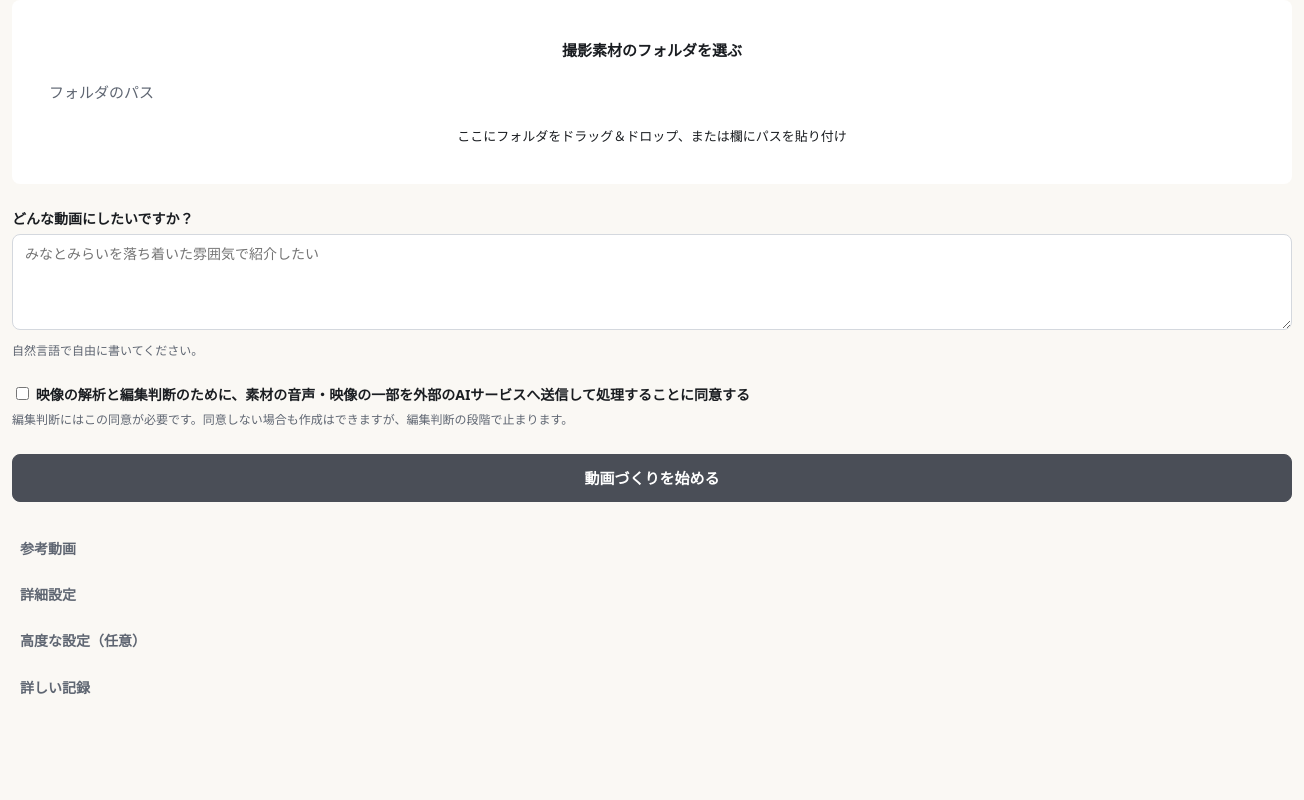
Test: IntakeForm（Createボタン活性ロジック） › API失敗時は構造化エラーを表示して遷移しない
In the field labelled "撮影素材のフォルダを選ぶ": [652, 92] box [36,70,1268,114], type "/tmp/missing"
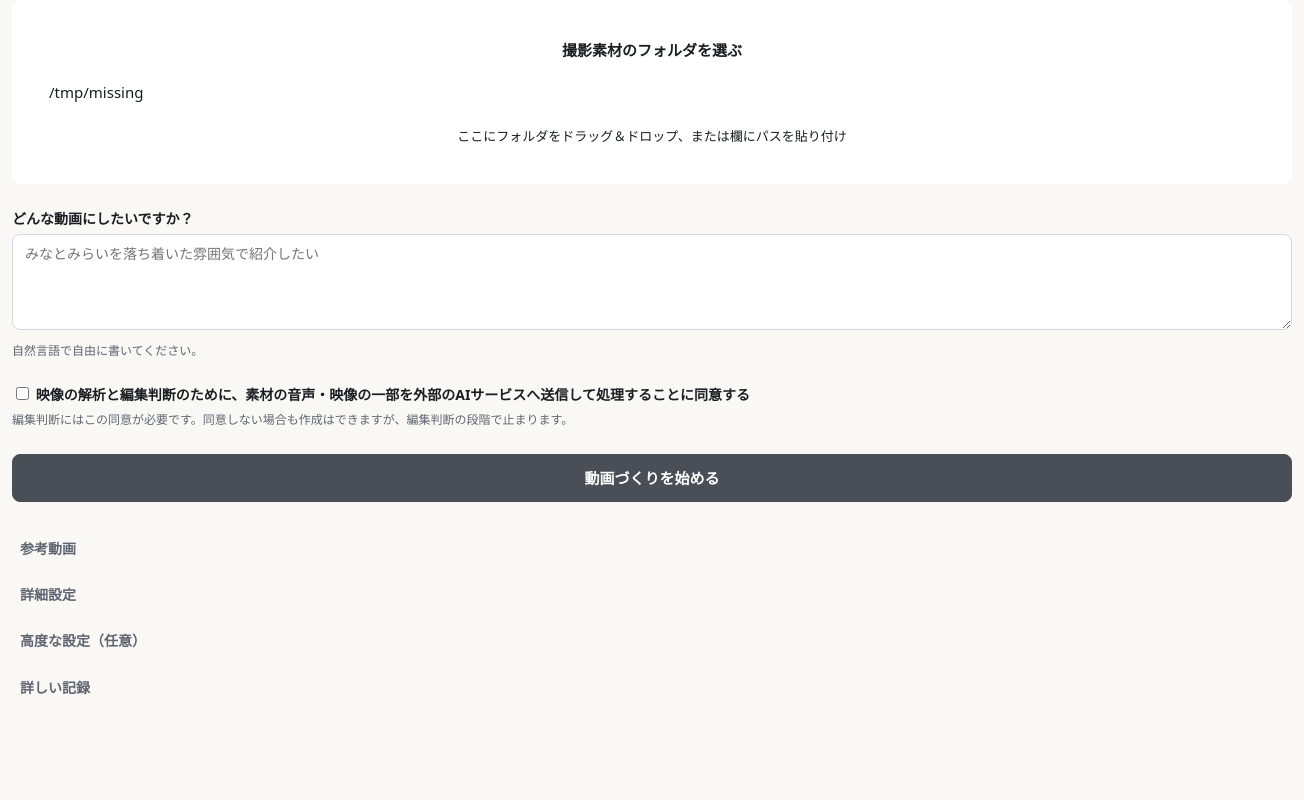
In the text box labelled "どんな動画にしたいですか？": [652, 282] box [12,234,1292,330], type "テストbrief"
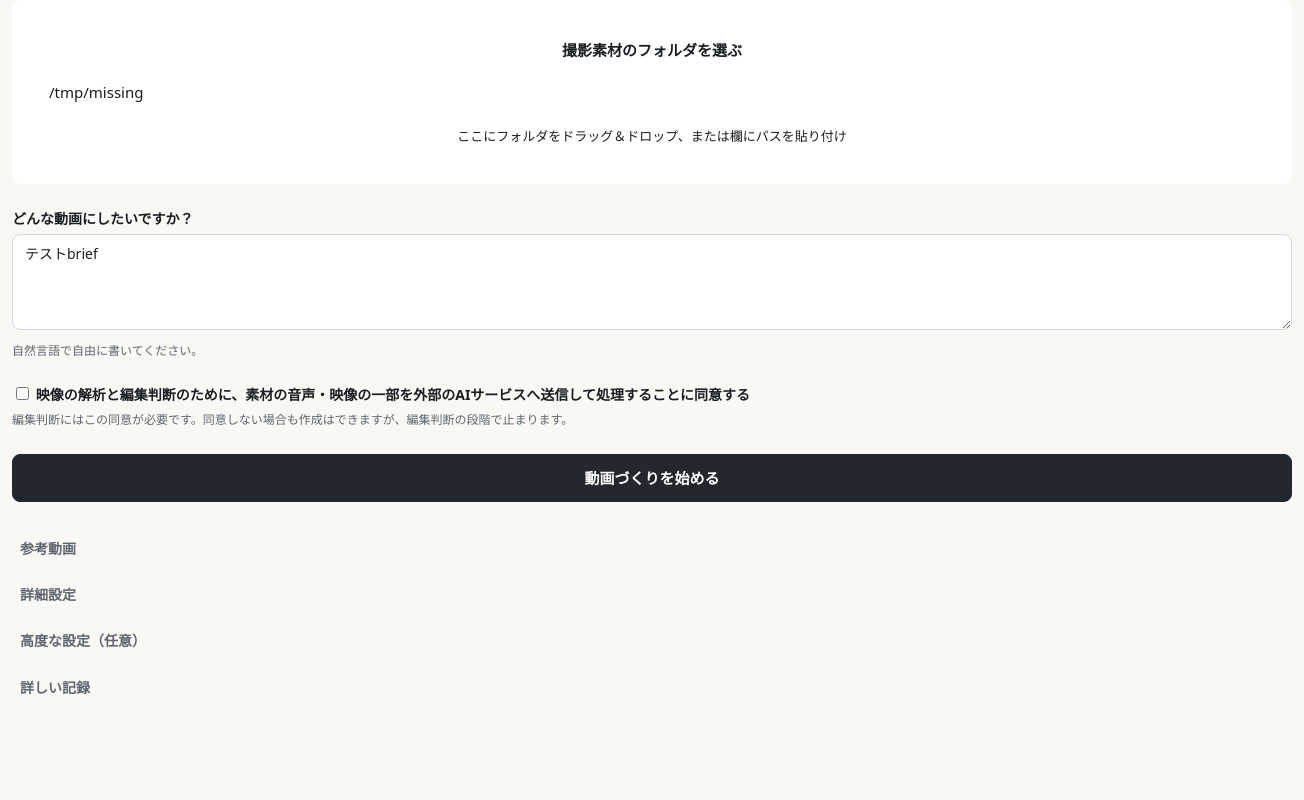
Click the button with test id "create-button": [652, 478] box [12,454,1292,502]
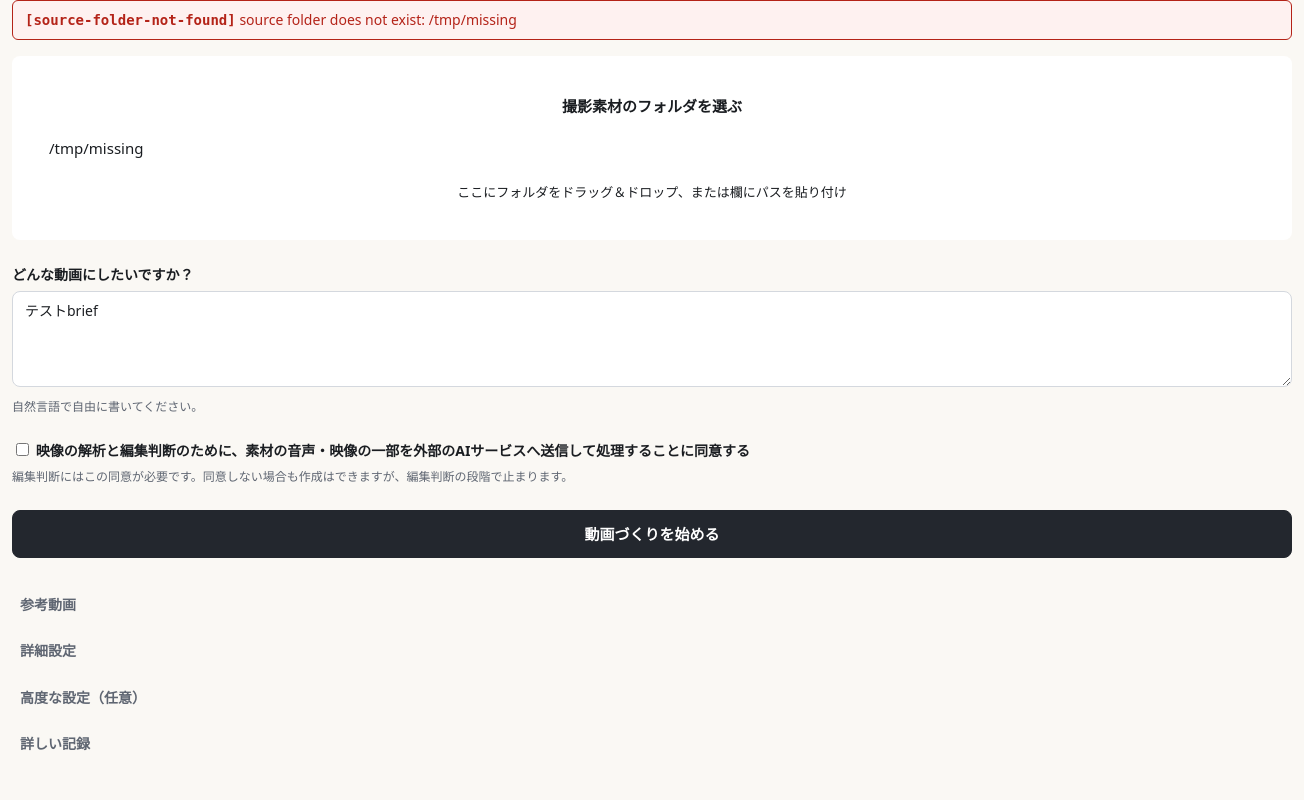
Check: the message "[source-folder-not-found] source folder does not exist: /tmp/missing" is shown, box [12,0,1292,40]
Check: the message shows "source-folder-not-found", box [33,12,227,28]
